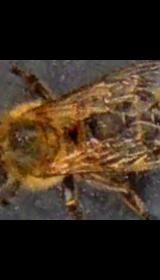varroa_mite: (82, 128, 103, 169)
